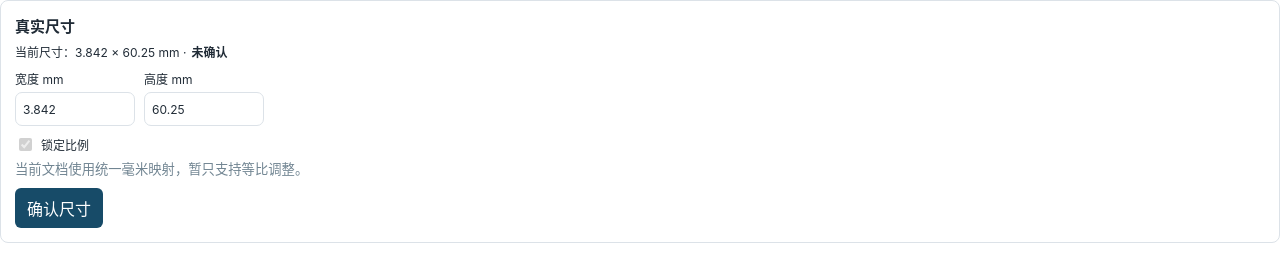
Scenario: real size display precision › shows concise values at rest and full values while editing without changing the measurement
Focus the number field named "真实宽度 mm" at {"x": 75, "y": 109}, box [15,92,135,126]
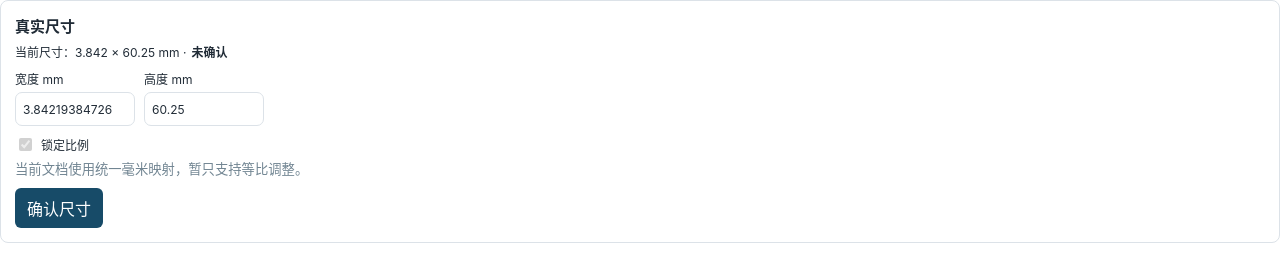
expect the number field named "真实宽度 mm" holds "3.842193847263": met
Leave the number field named "真实宽度 mm", box [15,92,135,126]
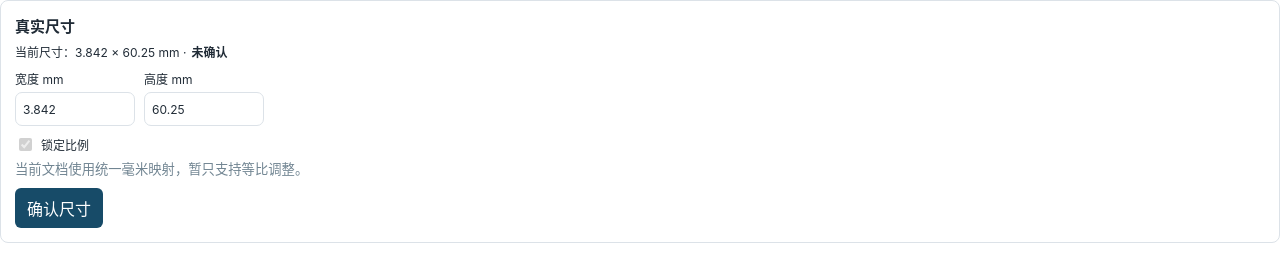
expect the number field named "真实宽度 mm" holds "3.842": met, box [15,92,135,126]
